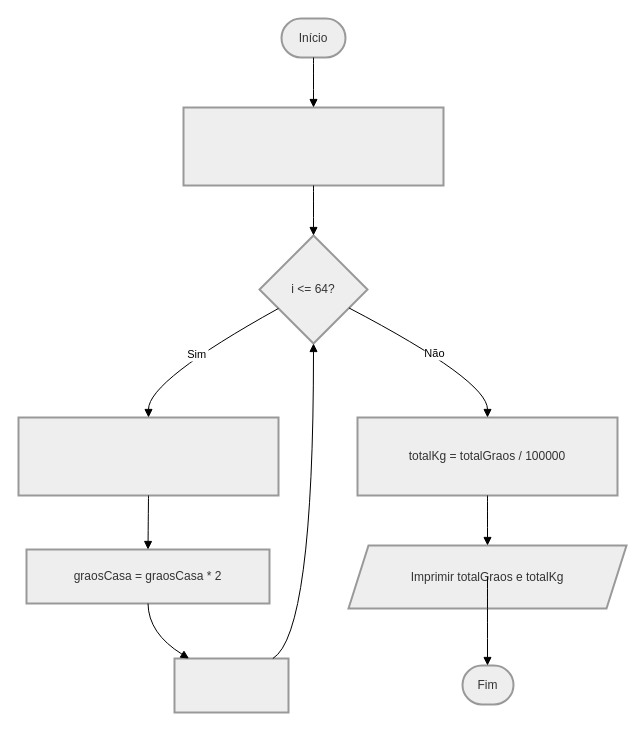
The diagram is 644 pixels wide and 730 high, and some of its shapes have lost their labels. The centre of each missing label's shape, as x and y in pixels:
"Declarar graosCasa=1, totalGraos=0, i=1, totalKg" goes at point (313, 146).
"i = i + 1" goes at point (231, 685).
"totalGraos = totalGraos + graosCasa" goes at point (148, 456).
